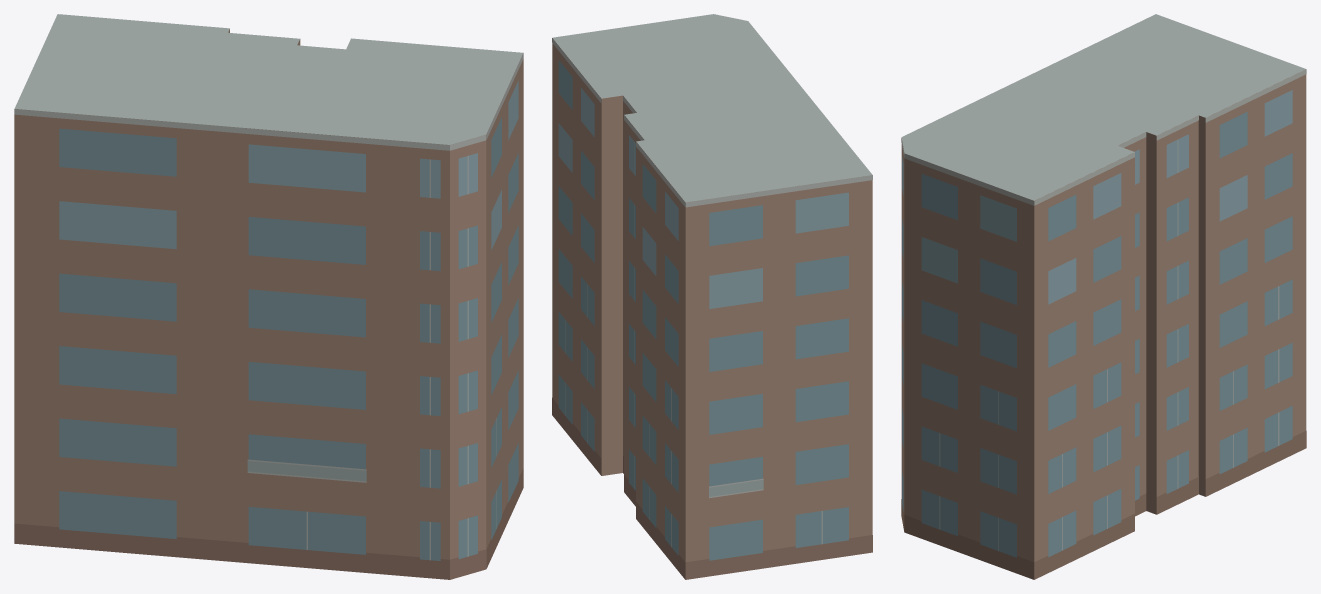
Rendered from survey-upis-32927974.glb.
The picture shows the model from 3 angles, left to right: view 1: azimuth 30°, elevation 25°; view 2: azimuth 150°, elevation 25°; view 3: azimuth 270°, elevation 25°; orthographic projection. The views are drawn at different scales.
Parts seen in each view (by area): view 1: survey-upis-32927974.tmp; view 2: survey-upis-32927974.tmp; view 3: survey-upis-32927974.tmp.
Part boxes in pixels (x1=…): survey-upis-32927974.tmp: x1=14, y1=14, x2=523, y2=579; survey-upis-32927974.tmp: x1=552, y1=14, x2=872, y2=579; survey-upis-32927974.tmp: x1=901, y1=14, x2=1306, y2=579.
Bounding box in the file's own units: 19.35 × 18.3 × 17.73.
